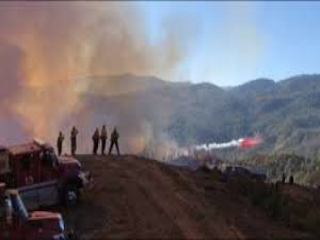smoke: (3, 5, 138, 124), (173, 133, 241, 155)
